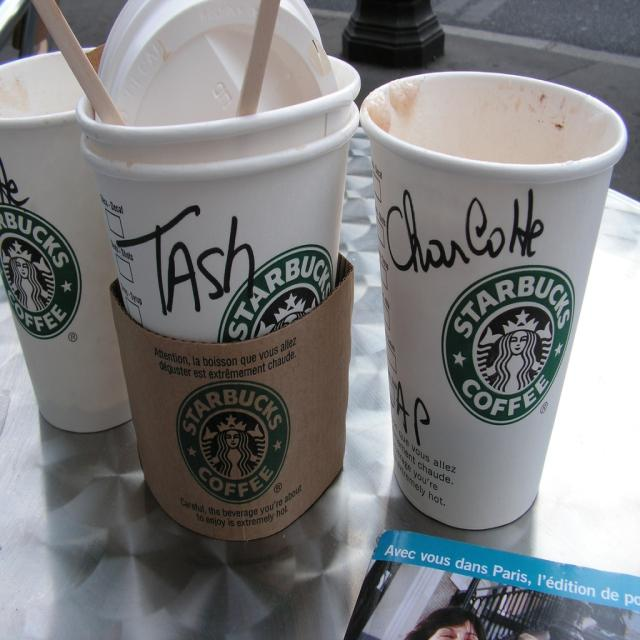starbucks: (441, 264, 577, 426), (176, 381, 292, 505), (219, 245, 334, 345), (2, 206, 82, 340)
